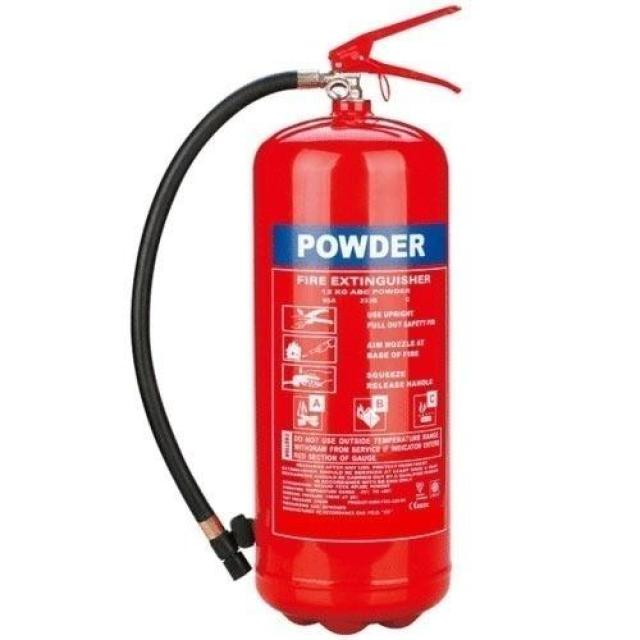fire_extinguisher: (124, 2, 467, 638)
